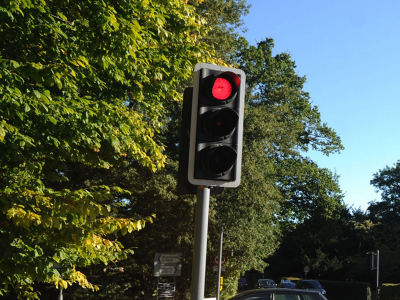trafficlight_red: (204, 72, 236, 176)
